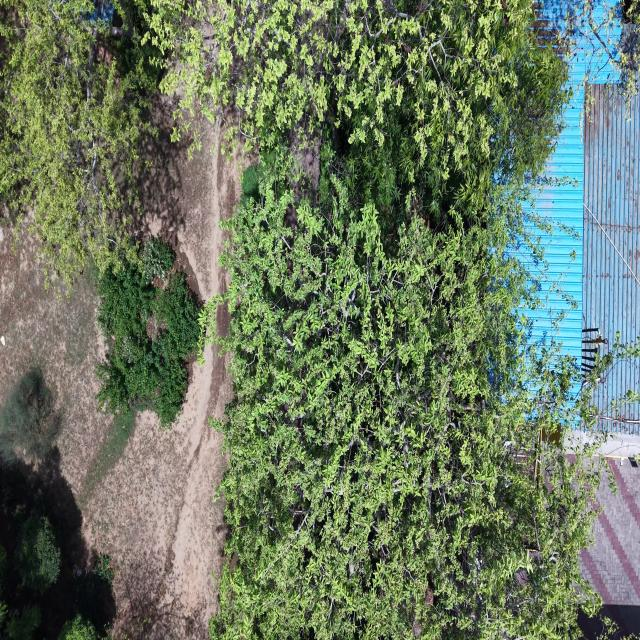DRY_AREA: (0, 231, 231, 638), (87, 348, 231, 637), (0, 224, 111, 491), (580, 436, 639, 637), (581, 458, 639, 610)
ROOFTOP_BUILDING: (530, 0, 639, 371), (531, 0, 639, 371), (582, 85, 639, 366), (581, 458, 639, 634), (90, 0, 114, 24)
VEGETATION_TREE: (0, 0, 600, 639), (151, 0, 599, 639), (209, 157, 599, 639), (0, 0, 565, 286), (147, 0, 567, 224), (0, 0, 199, 428), (0, 0, 198, 424), (0, 0, 158, 288), (0, 369, 114, 639), (0, 453, 115, 639), (98, 239, 199, 426), (548, 0, 639, 100), (0, 515, 60, 639), (0, 368, 58, 464), (79, 410, 135, 506), (16, 514, 60, 592), (608, 0, 639, 98), (142, 237, 174, 283), (6, 606, 41, 639), (59, 615, 98, 639)
